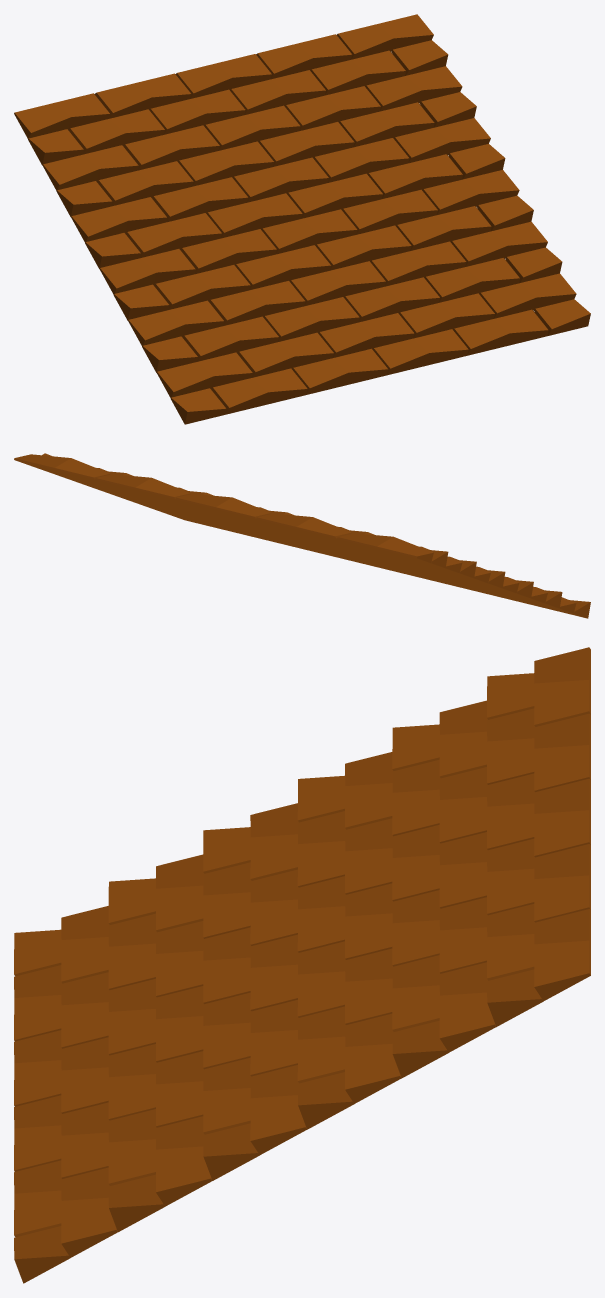
Rendered from Roof.fbx.
3 views of the same model, one above another, from view 1: azimuth 30°, elevation 25°; view 2: azimuth 150°, elevation 25°; view 3: azimuth 270°, elevation 25° (orthographic). The views are drawn at different scales.
Visible parts, largest first — view 1: Plane.006; view 2: Plane.006; view 3: Plane.006.
Boxes of the visible parts, <box> form: Plane.006: <box>14,14,590,424</box>; Plane.006: <box>14,453,590,618</box>; Plane.006: <box>14,647,590,1283</box>.
Bounding box in the file's own units: 200 × 88.63 × 149.
